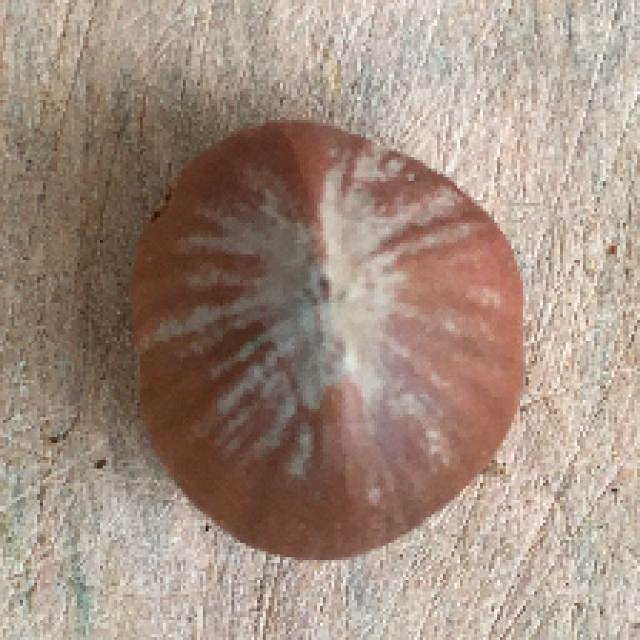qualityHazelnut: (116, 112, 534, 572)
